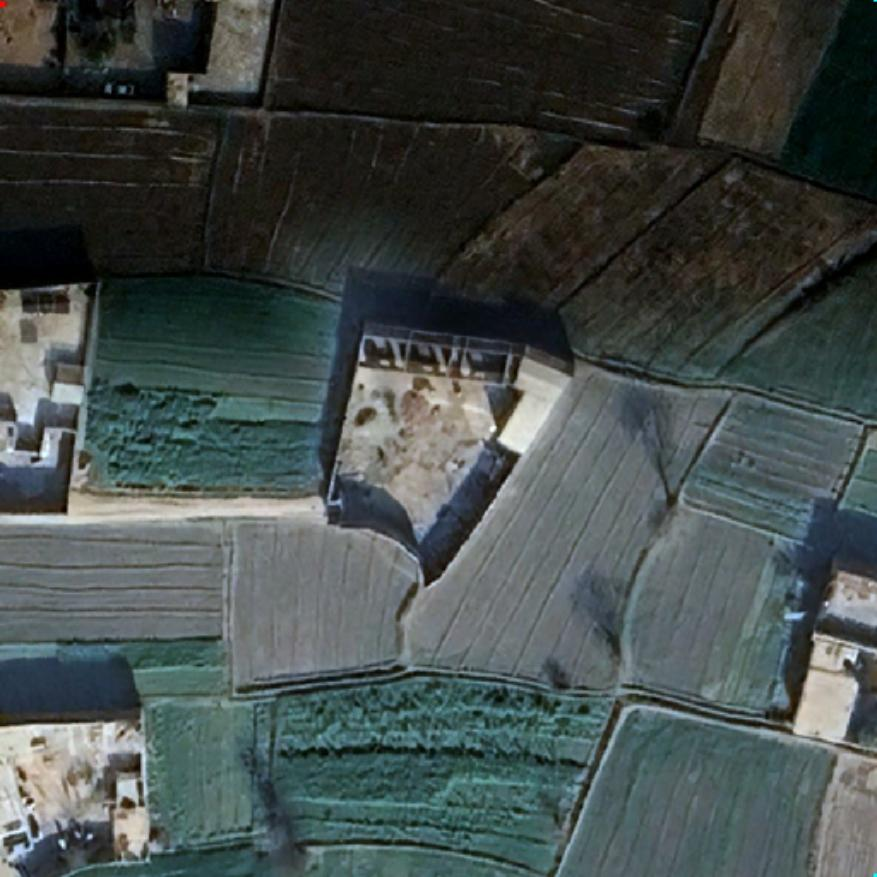Solarpanel: (21, 291, 69, 314)
